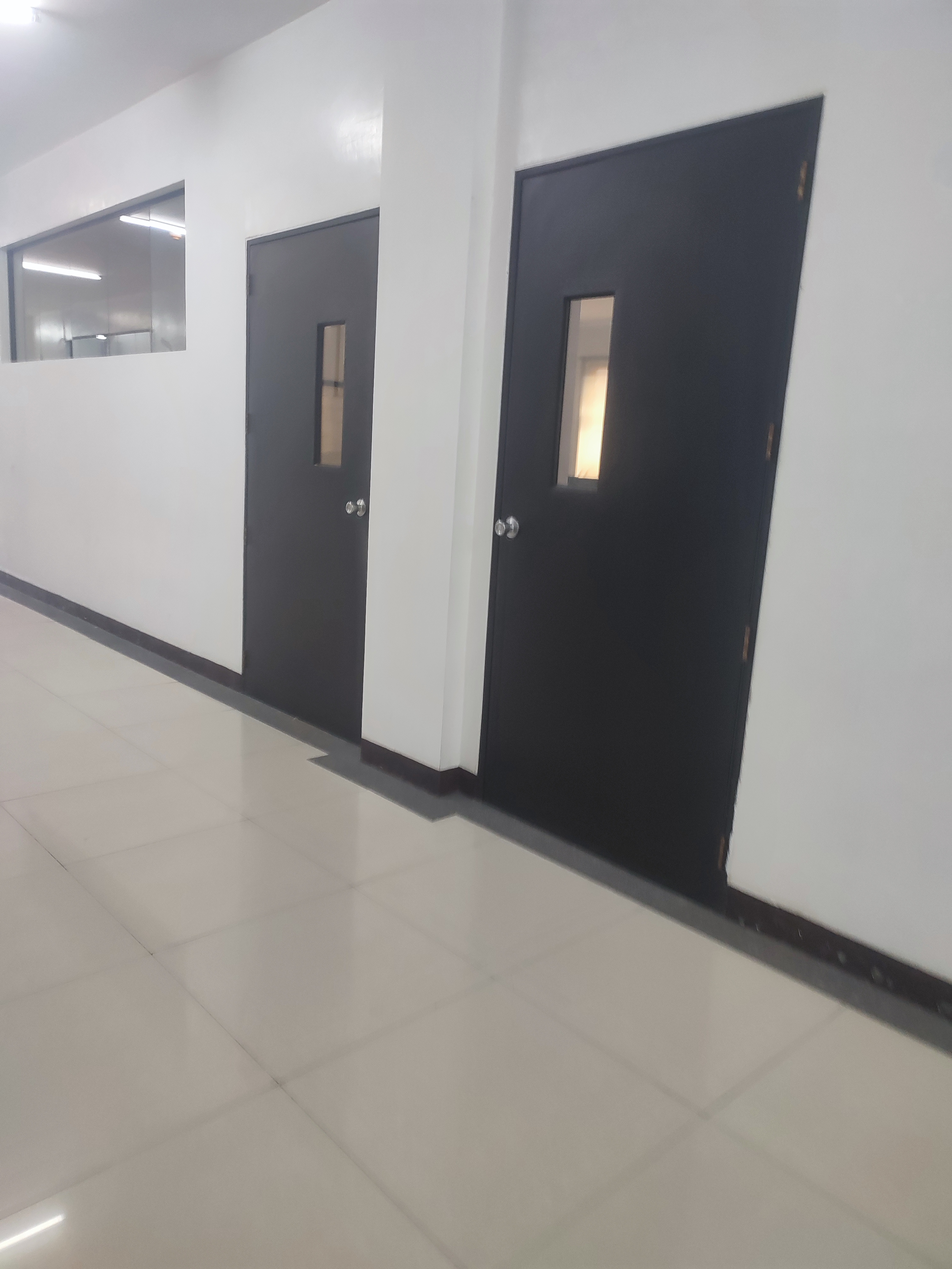door: (475, 93, 826, 919), (235, 204, 380, 743)
